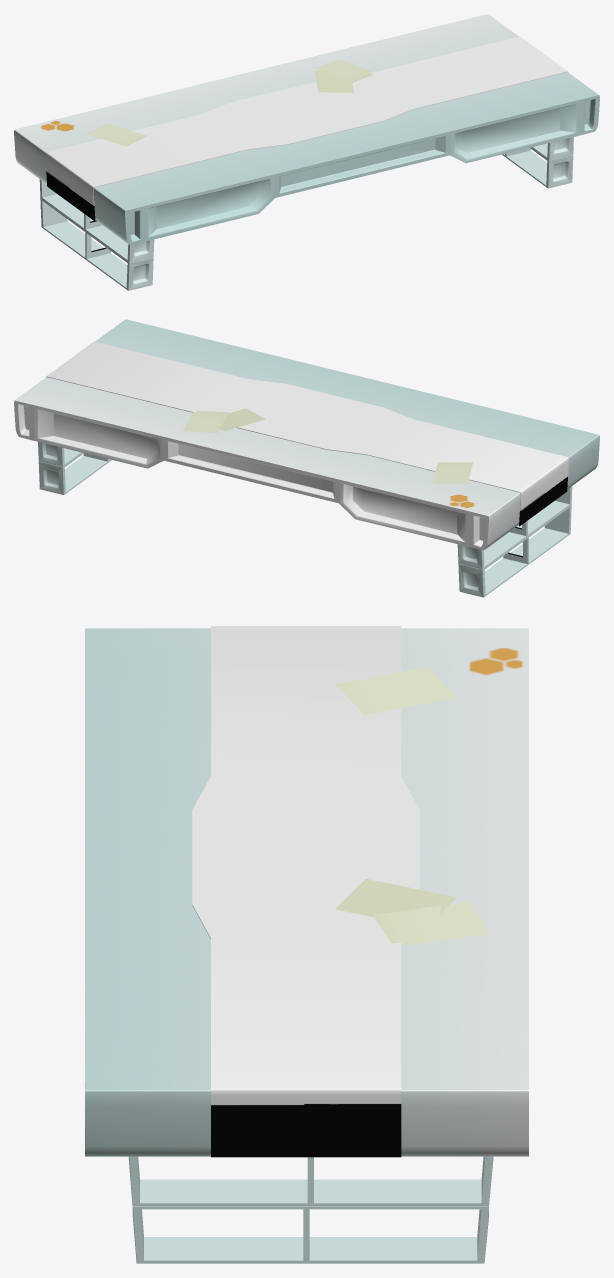
The model's file is Prop_Desktop.FBX.
3 renders of one model, top to bottom at view 1: azimuth 30°, elevation 25°; view 2: azimuth 150°, elevation 25°; view 3: azimuth 270°, elevation 25°, orthographic. The views are drawn at different scales.
Visible parts, largest first — view 1: Mesa; view 2: Mesa; view 3: Mesa.
Part boxes in pixels (x1,y1,x2,y2): Mesa: [14, 14, 599, 290]; Mesa: [14, 319, 599, 597]; Mesa: [85, 626, 528, 1263].
Size of the model in its own units: 322 by 62.29 by 130.
1 material, 1 textured.
